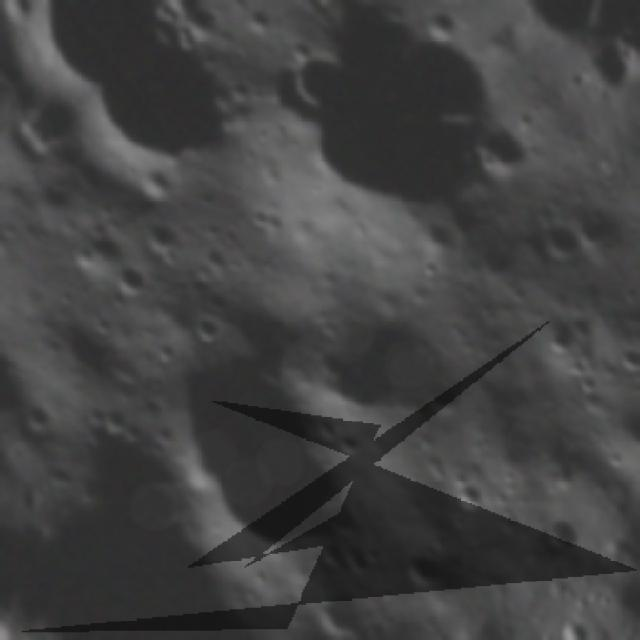crater: (249, 0, 557, 269), (130, 309, 404, 596), (27, 381, 326, 640), (272, 262, 486, 487), (70, 12, 276, 213), (0, 256, 71, 438), (519, 198, 595, 278), (61, 208, 138, 284), (477, 411, 552, 487), (20, 101, 95, 168), (99, 248, 166, 318), (304, 578, 378, 640), (564, 195, 630, 262), (127, 203, 191, 271), (394, 535, 458, 599), (438, 466, 500, 531), (539, 316, 587, 366), (526, 505, 576, 552), (606, 328, 640, 382)
